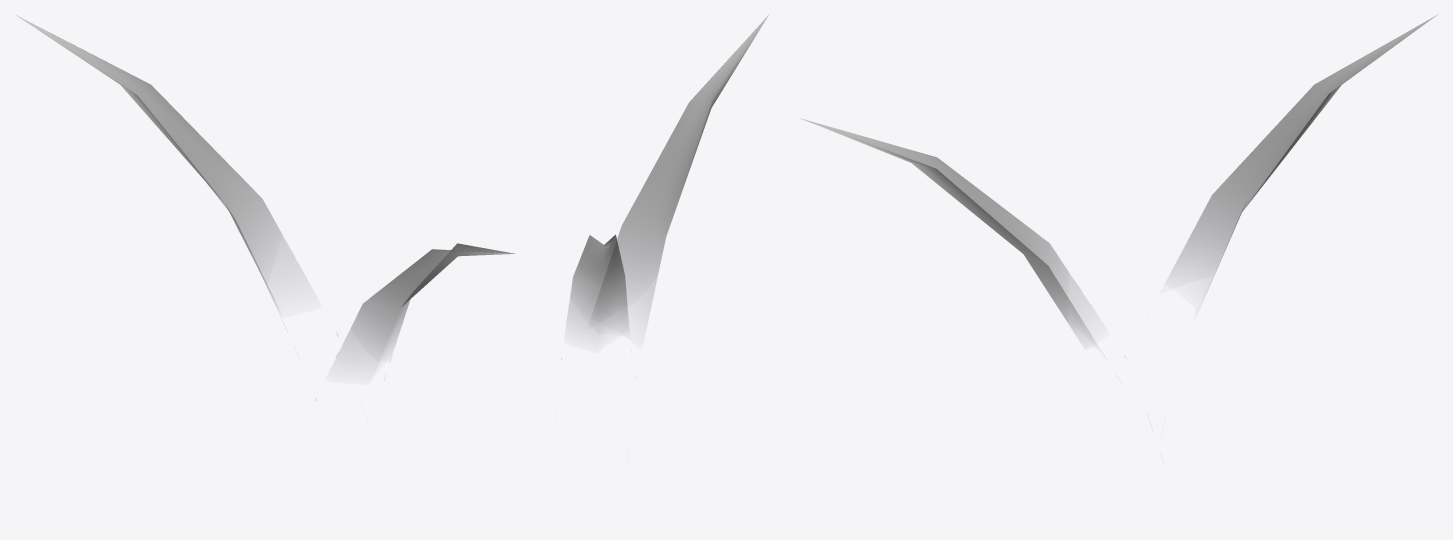
The model's file is glass2_move.glb.
3 renders of one model, left to right at view 1: azimuth 30°, elevation 25°; view 2: azimuth 150°, elevation 25°; view 3: azimuth 270°, elevation 25°, orthographic. The views are drawn at different scales.
Visible parts, largest first — view 1: Plane003.002, Plane001.002; view 2: Plane001.002, Plane003.002; view 3: Plane003.002, Plane001.002.
Boxes of the visible parts, box(x1,y1,x2,y2) form: Plane003.002: box(15, 14, 303, 327); Plane001.002: box(336, 243, 514, 361); Plane001.002: box(617, 15, 768, 463); Plane003.002: box(567, 234, 627, 333); Plane003.002: box(1162, 14, 1437, 430); Plane001.002: box(799, 118, 1093, 339).
Bounding box in the file's own units: 0.1087 × 0.2093 × 0.2934.
Materials: 1 (1 with a texture image).
